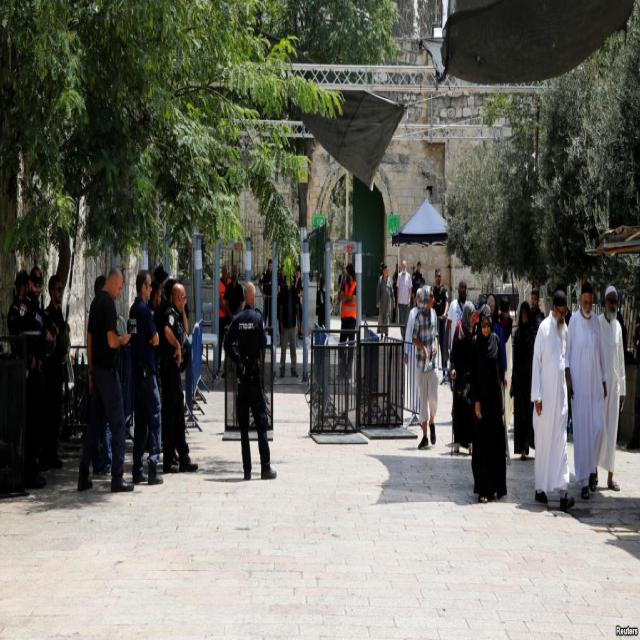body: (76, 264, 136, 494), (221, 278, 278, 482), (529, 286, 577, 513), (563, 277, 609, 501), (464, 303, 508, 505), (156, 280, 199, 476), (128, 270, 164, 486), (594, 283, 627, 493), (42, 272, 71, 468), (6, 268, 32, 470), (508, 299, 538, 462), (410, 282, 439, 448), (449, 299, 478, 456), (94, 272, 113, 478), (404, 286, 426, 414), (335, 260, 358, 380), (151, 263, 169, 404), (277, 273, 301, 378), (21, 265, 46, 362), (484, 290, 508, 390), (444, 278, 469, 365), (431, 266, 450, 378), (561, 302, 576, 436), (217, 263, 233, 373), (375, 264, 397, 342), (221, 263, 246, 328), (396, 259, 414, 343), (256, 256, 274, 336), (529, 287, 547, 344), (292, 264, 305, 340), (498, 297, 514, 345), (160, 277, 177, 320), (376, 260, 385, 334), (315, 276, 326, 328), (148, 278, 162, 318), (391, 262, 399, 325), (411, 260, 425, 290), (337, 263, 347, 295), (277, 264, 287, 294)
